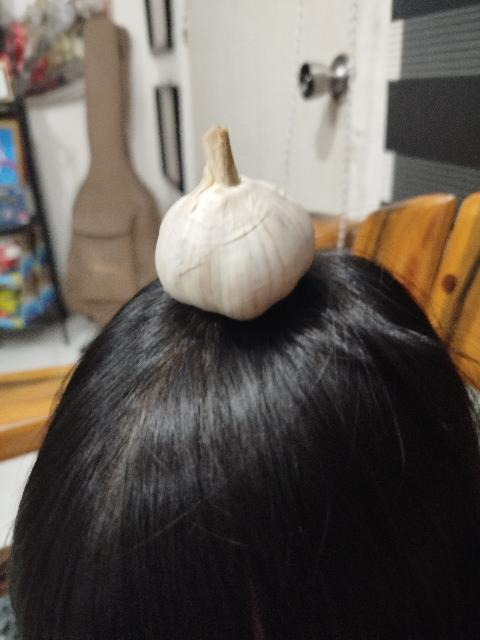garlic: (154, 124, 316, 320)
